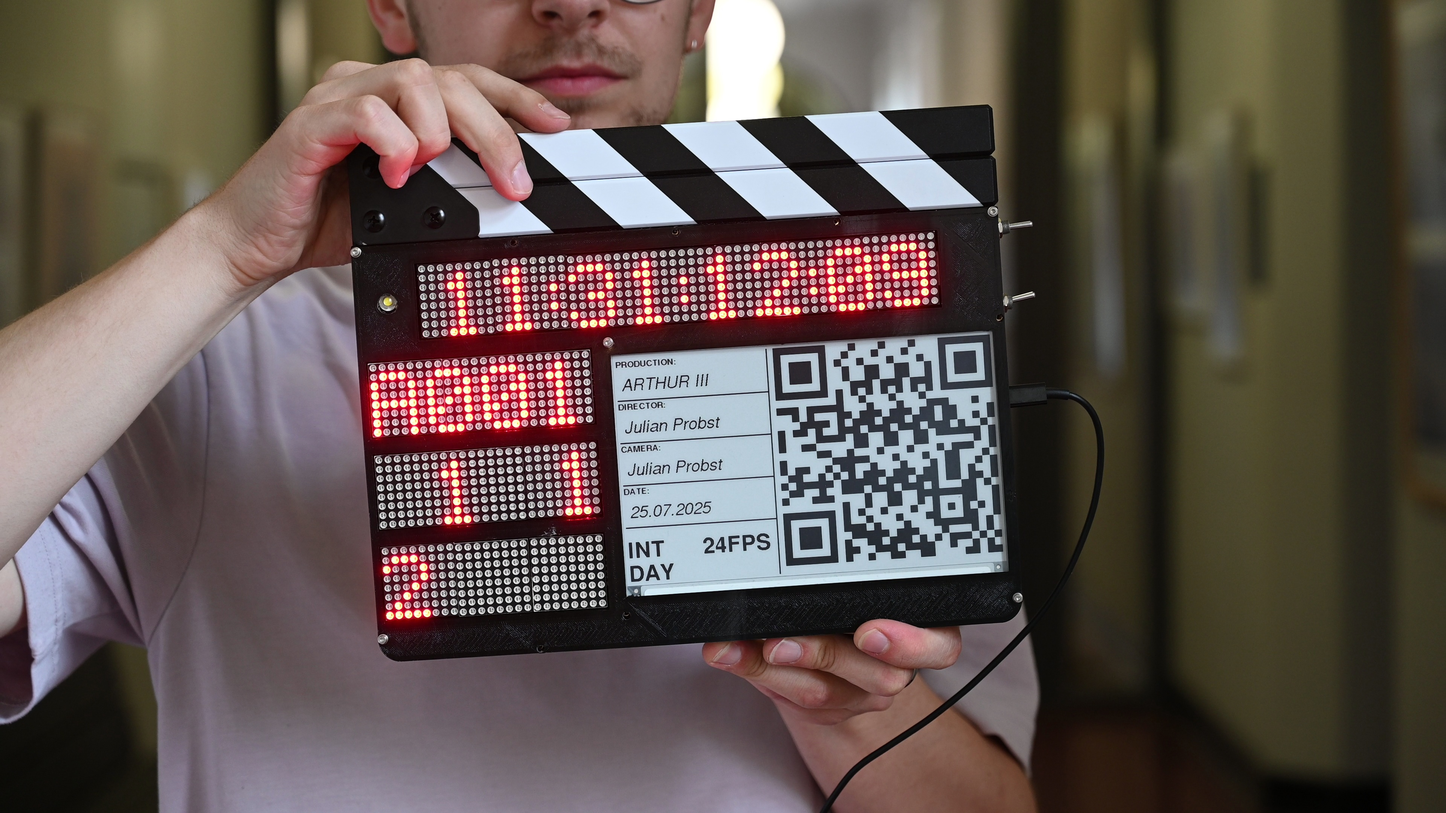ARC-SLATE: (347, 157, 1027, 662)
